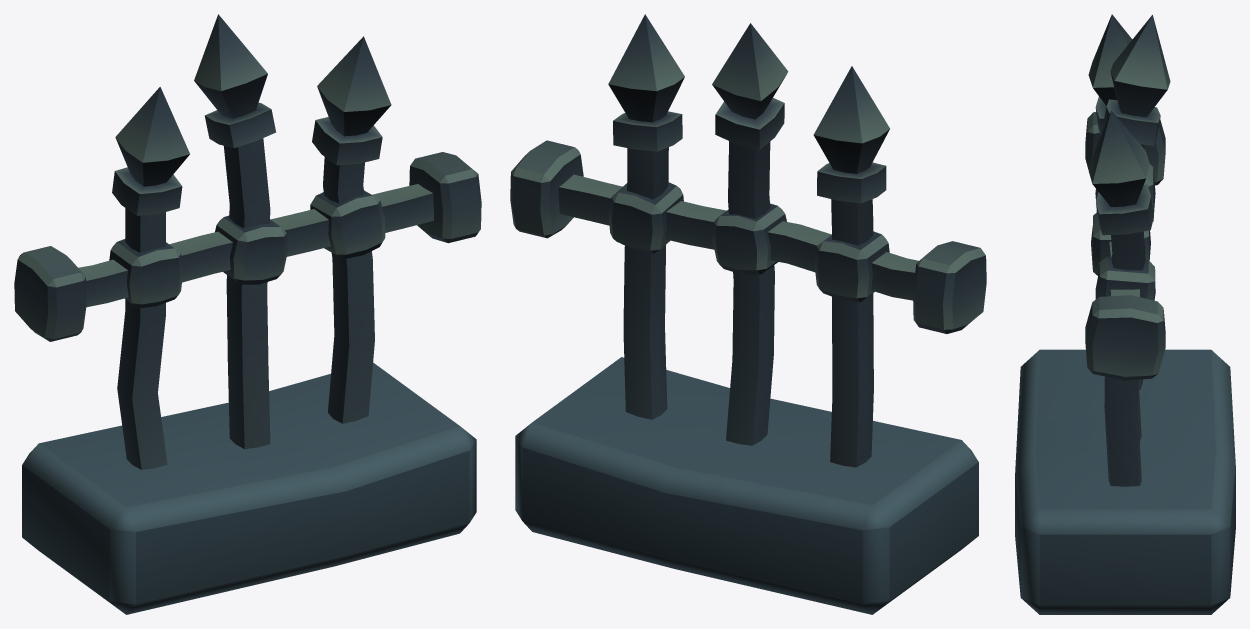
Rendered from fence_element_1_LOD_setup.fbx.
The picture shows the model from 3 angles, left to right: view 1: azimuth 30°, elevation 25°; view 2: azimuth 150°, elevation 25°; view 3: azimuth 270°, elevation 25°; orthographic projection. The views are drawn at different scales.
Parts seen in each view (by area): view 1: fence_element_1_LOD0; view 2: fence_element_1_LOD0; view 3: fence_element_1_LOD0.
Boxes of the visible parts, box(x1,y1,x2,y2) form: fence_element_1_LOD0: box(14, 14, 481, 614); fence_element_1_LOD0: box(510, 14, 986, 614); fence_element_1_LOD0: box(1015, 14, 1235, 614).
Size of what is drawn, in the model's own units: 155 by 179 by 69.82.
